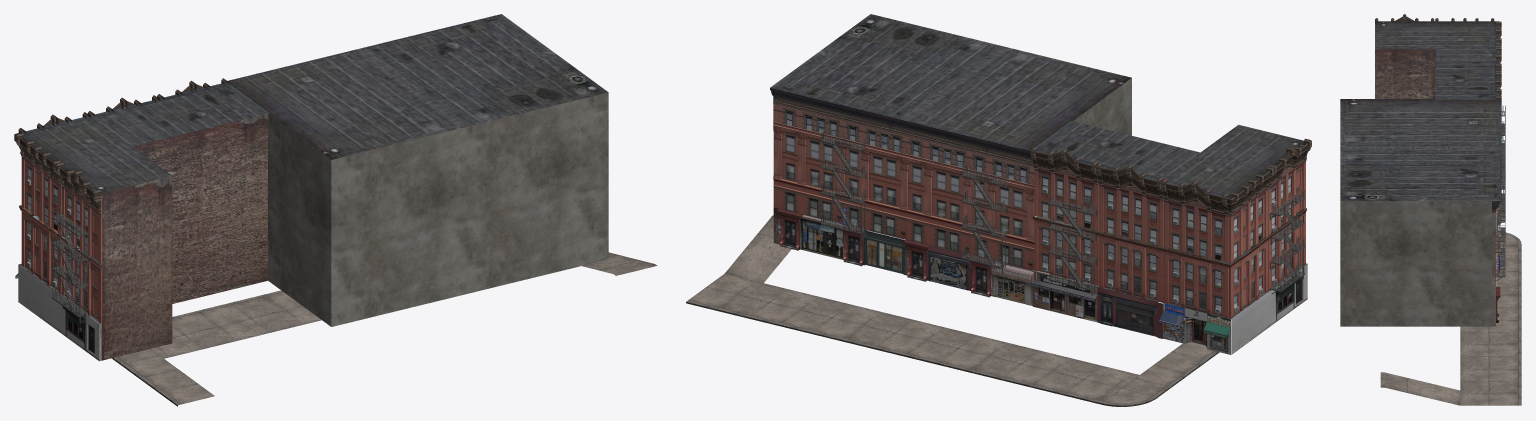
File: ScaledCity.glb
The picture shows the model from 3 angles, left to right: view 1: azimuth 30°, elevation 25°; view 2: azimuth 150°, elevation 25°; view 3: azimuth 270°, elevation 25°; orthographic projection. The views are drawn at different scales.
Parts seen in each view (by area): view 1: mainerz.004_Concrete_0_8, mainerz.003_Misc_0_6, mainerz.002_Red Build 2_0_4, mainerz_Red building 1_0_0, Sidewalks.001_15, mainerz.001_Metal_0_2; view 2: mainerz.002_Red Build 2_0_4, mainerz_Red building 1_0_0, Sidewalks.001_15, mainerz.001_Metal_0_2, mainerz.003_Misc_0_6, mainerz.004_Concrete_0_8; view 3: mainerz.004_Concrete_0_8, mainerz.002_Red Build 2_0_4, Sidewalks.001_15, mainerz_Red building 1_0_0, mainerz.003_Misc_0_6, mainerz.001_Metal_0_2.
Part boxes in pixels (left/top/right/bottom): mainerz.004_Concrete_0_8: left=268, top=92, right=608, bottom=326; mainerz.003_Misc_0_6: left=18, top=113, right=268, bottom=361; mainerz.002_Red Build 2_0_4: left=225, top=14, right=607, bottom=159; mainerz_Red building 1_0_0: left=14, top=78, right=269, bottom=323; Sidewalks.001_15: left=112, top=252, right=657, bottom=406; mainerz.001_Metal_0_2: left=52, top=206, right=89, bottom=323; mainerz.002_Red Build 2_0_4: left=770, top=14, right=1131, bottom=305; mainerz_Red building 1_0_0: left=1030, top=121, right=1311, bottom=354; Sidewalks.001_15: left=686, top=215, right=1219, bottom=406; mainerz.001_Metal_0_2: left=820, top=129, right=1304, bottom=295; mainerz.003_Misc_0_6: left=1072, top=186, right=1307, bottom=354; mainerz.004_Concrete_0_8: left=773, top=78, right=1131, bottom=277; mainerz.004_Concrete_0_8: left=1340, top=201, right=1495, bottom=326; mainerz.002_Red Build 2_0_4: left=1340, top=99, right=1501, bottom=322; Sidewalks.001_15: left=1380, top=232, right=1521, bottom=405; mainerz_Red building 1_0_0: left=1375, top=14, right=1502, bottom=139; mainerz.003_Misc_0_6: left=1375, top=49, right=1435, bottom=98; mainerz.001_Metal_0_2: left=1496, top=105, right=1505, bottom=280.
Size of the model in its own units: 23.83 by 9.81 by 8.69.
Materials: 6 (6 with a texture image).
